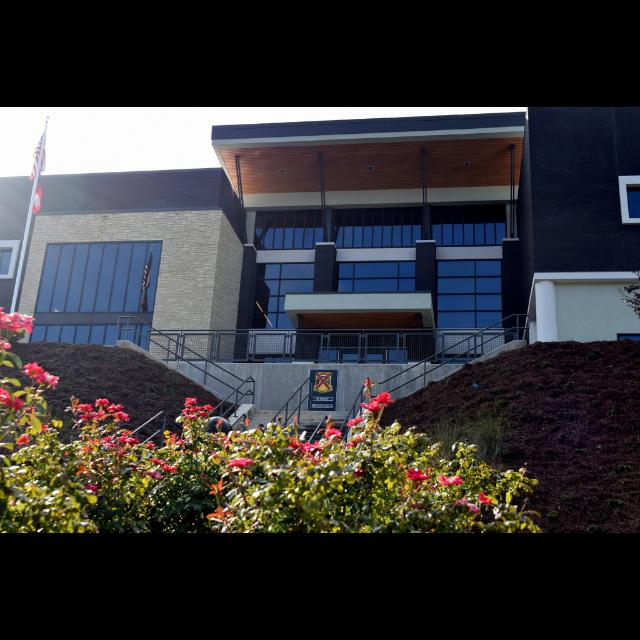Flower: (78, 432, 138, 456), (1, 306, 34, 334), (288, 441, 322, 463), (2, 388, 24, 412), (21, 360, 43, 384), (183, 404, 213, 420), (404, 469, 430, 483), (456, 498, 478, 514), (227, 456, 253, 469), (324, 423, 340, 441), (43, 374, 61, 388), (360, 401, 380, 413), (344, 416, 362, 428), (374, 394, 392, 406), (441, 476, 462, 486), (76, 466, 90, 478), (478, 494, 492, 506), (94, 398, 110, 408), (15, 433, 28, 445), (112, 411, 126, 421), (148, 470, 162, 480), (162, 464, 176, 474), (82, 412, 95, 422), (106, 404, 120, 412), (185, 397, 195, 407), (0, 340, 8, 350), (40, 424, 50, 432), (80, 404, 90, 412), (88, 484, 96, 494), (96, 411, 104, 421), (153, 458, 161, 467), (365, 378, 371, 390), (145, 442, 151, 452)
